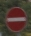No entry: (5, 6, 25, 31)
